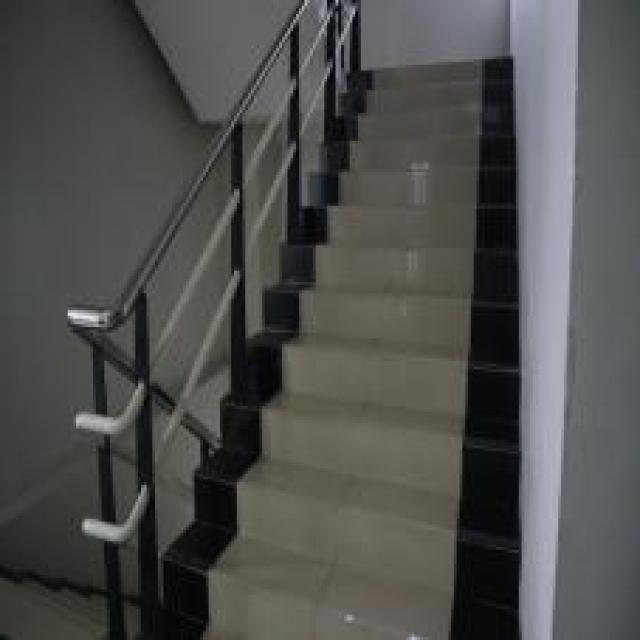upstair: (286, 232, 520, 638)
